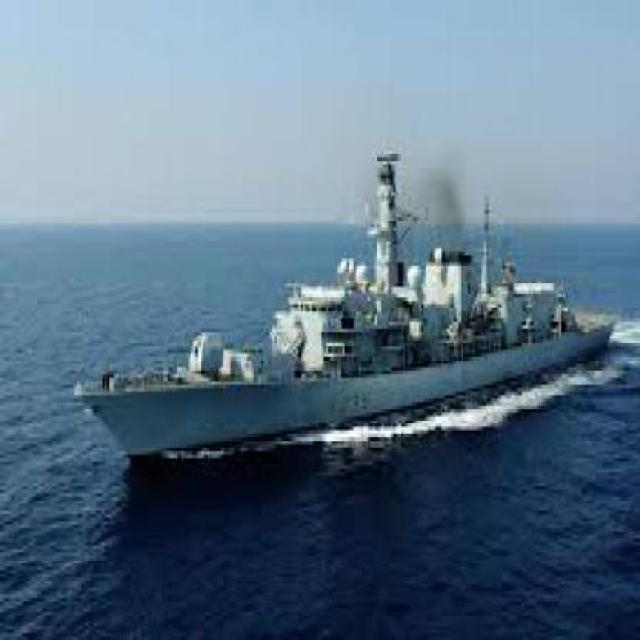warship2: (69, 117, 627, 488)
